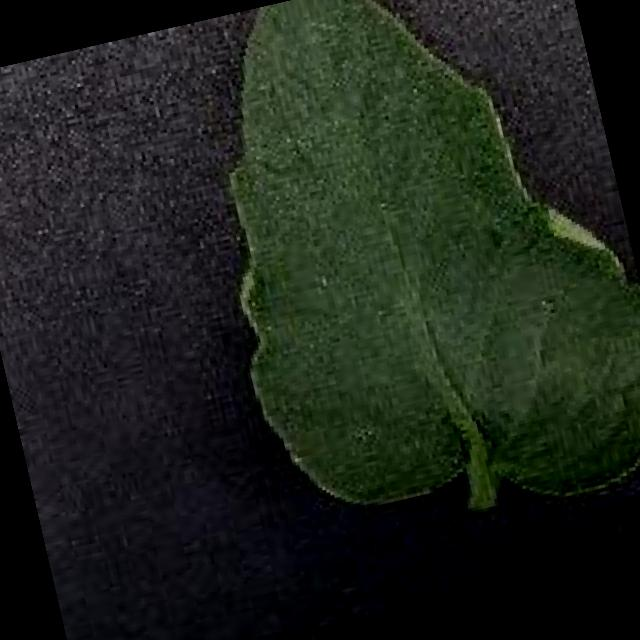healthy: (223, 0, 640, 511)
